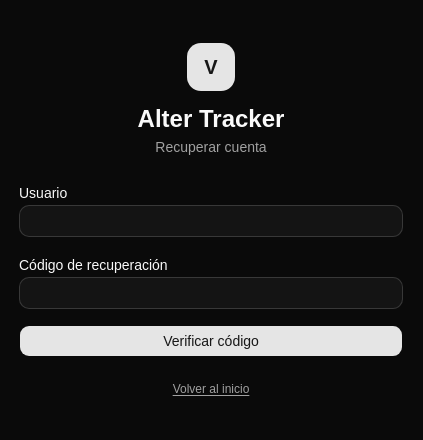
Test: ForgotPasswordPage › shows generic error when the fetch itself throws (network error)
Type "alice" into the field labelled "Usuario" at (211, 221), box [19,205,403,237]
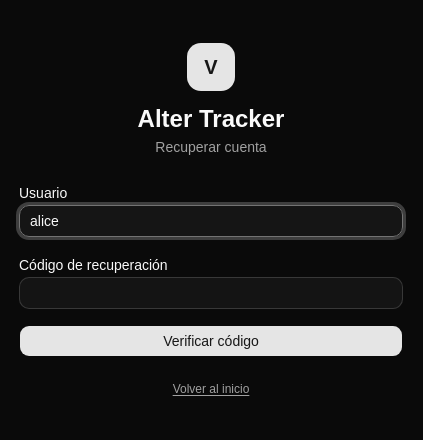
Type "123456" into the field labelled "Código de recuperación" at (211, 293), box [19,277,403,309]
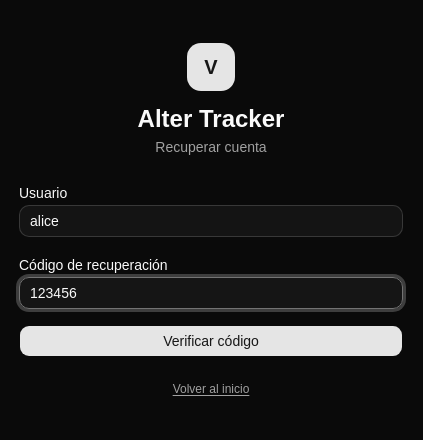
Click the button "Verificar código" at (211, 341), box [19,325,403,357]
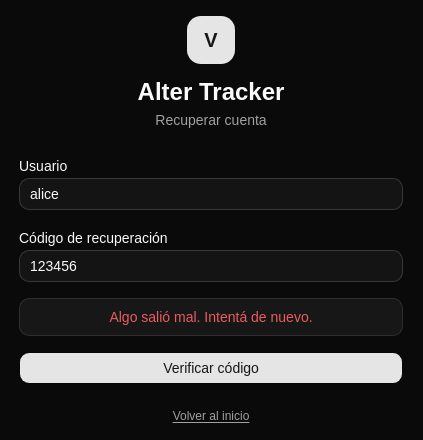
Expected: the text "Algo salió mal. Intentá de nuevo." is shown, [109,309,312,325]
